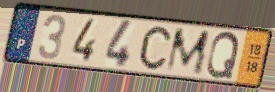3: (37, 13, 67, 61)
4: (103, 17, 135, 71), (70, 18, 98, 65)
C: (138, 24, 173, 72)
M: (163, 27, 212, 77)
Q: (204, 30, 241, 80)
